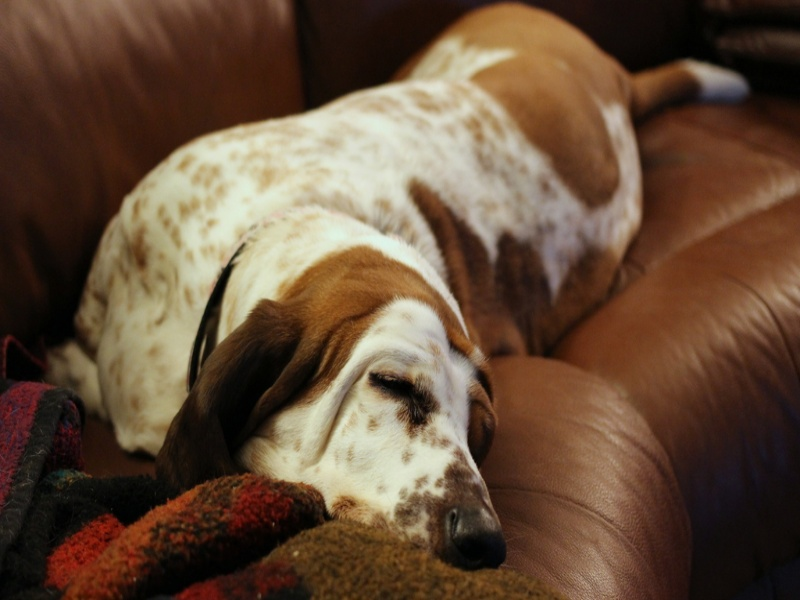dog: (56, 1, 757, 568)
